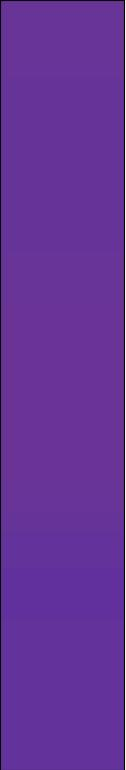safe: (11, 7, 113, 752)
